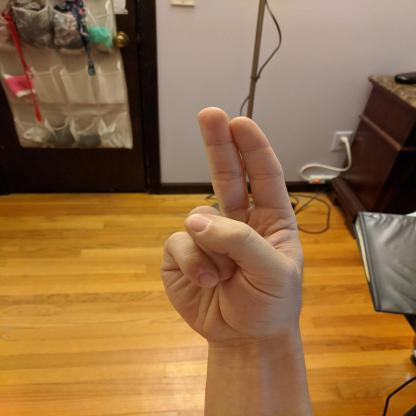U: (160, 107, 304, 346)
